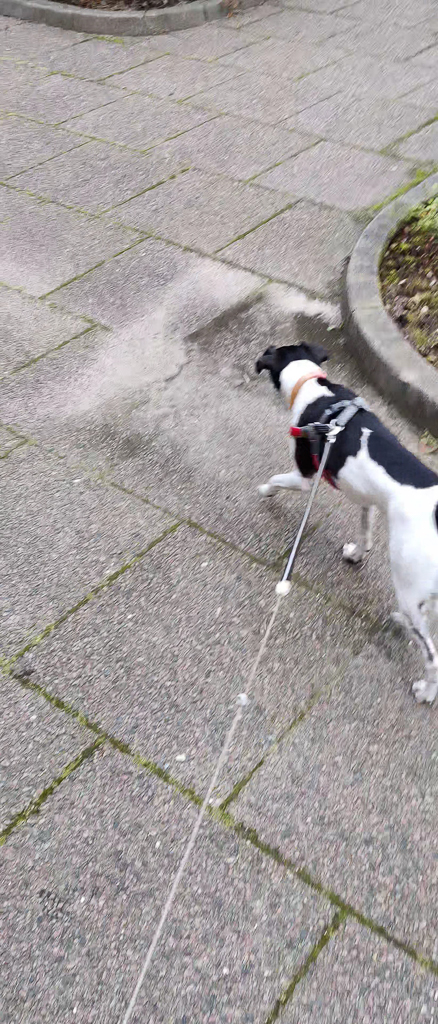Dog: (226, 331, 438, 718)
